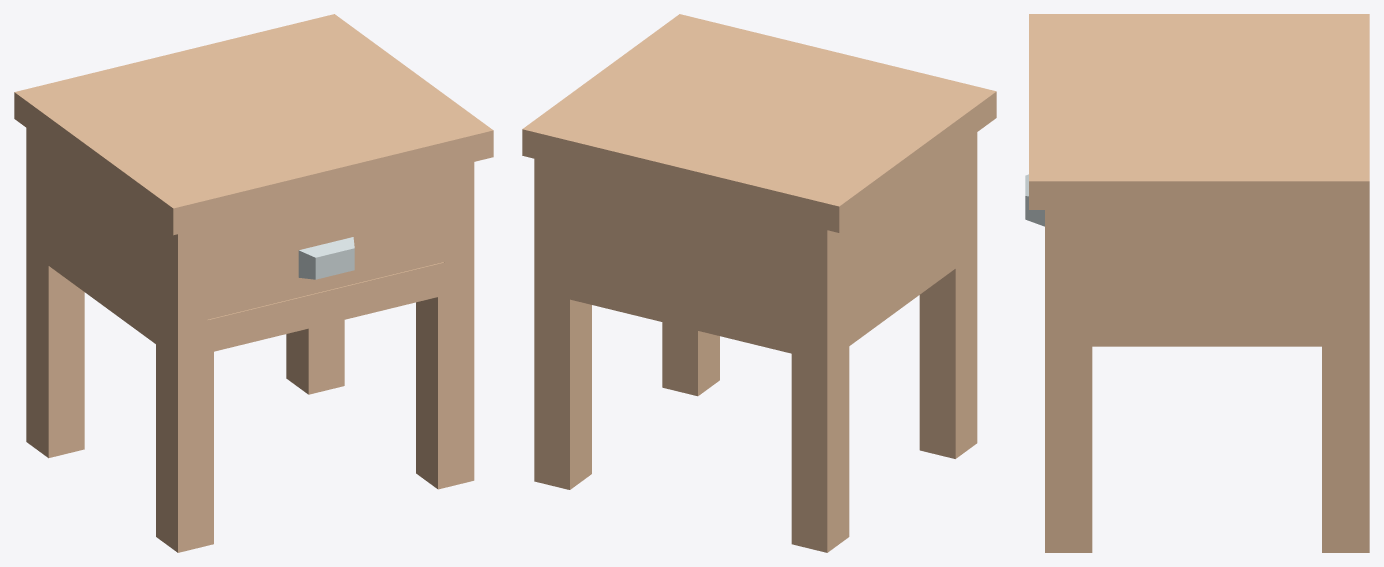
The model's file is cabinetBedDrawerTable-col.glb.
3 renders of one model, left to right at view 1: azimuth 30°, elevation 25°; view 2: azimuth 150°, elevation 25°; view 3: azimuth 270°, elevation 25°, orthographic. The views are drawn at different scales.
Parts seen in each view (by area): view 1: cabinetBedDrawerTable-col; view 2: cabinetBedDrawerTable-col; view 3: cabinetBedDrawerTable-col.
Part boxes in pixels (x1,y1,x2,y2): cabinetBedDrawerTable-col: (14,14,493,552); cabinetBedDrawerTable-col: (522,14,996,552); cabinetBedDrawerTable-col: (1025,14,1369,552).
Size of the model in its own units: 0.25 by 0.2632 by 0.2173.
